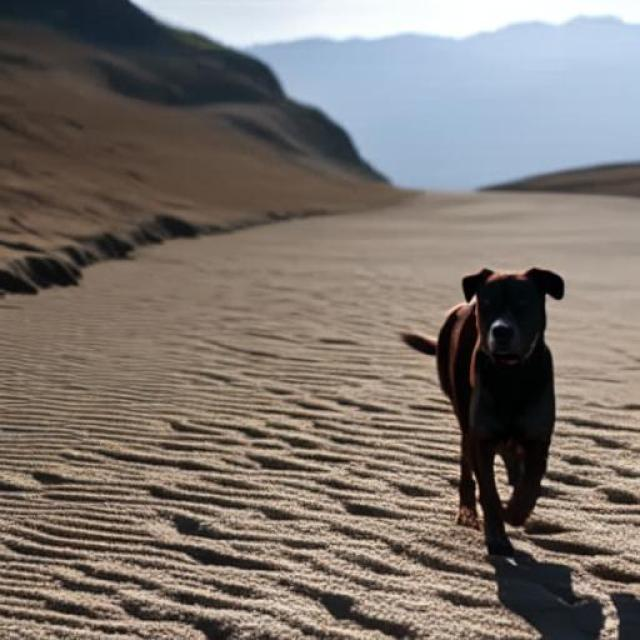Dog: (404, 266, 564, 530)
